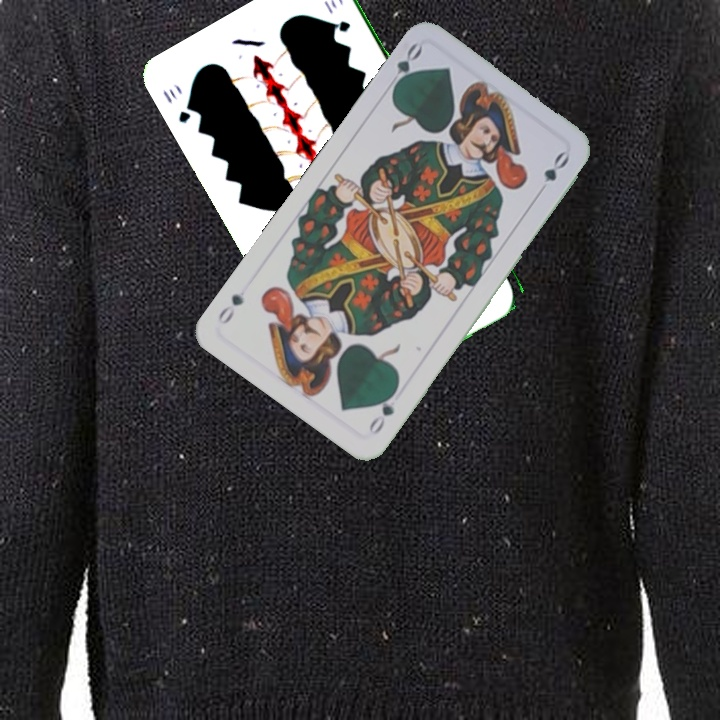G10: (159, 85, 200, 126)
GO: (388, 39, 425, 95), (364, 384, 401, 438)
